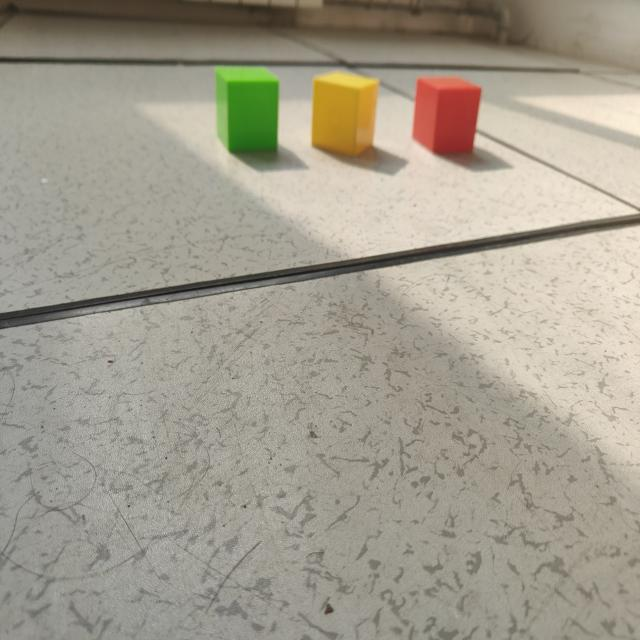green: (215, 68, 281, 160)
red: (411, 77, 482, 160)
yellow: (311, 71, 379, 160)
